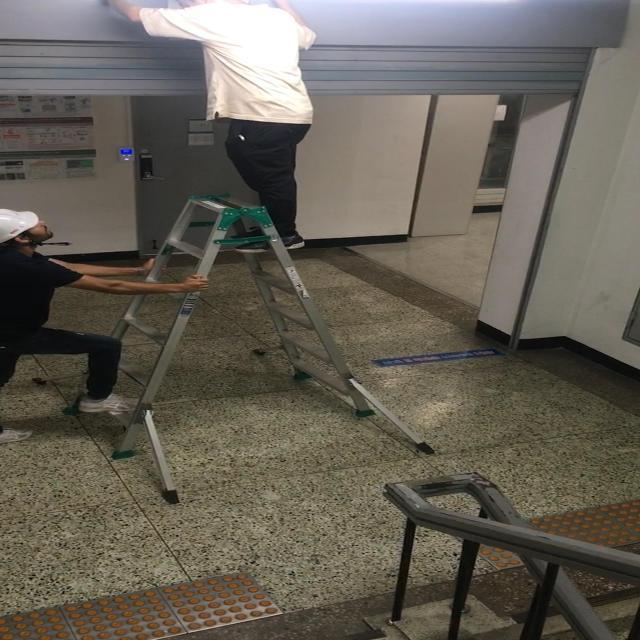white helmet: (1, 194, 59, 254)
